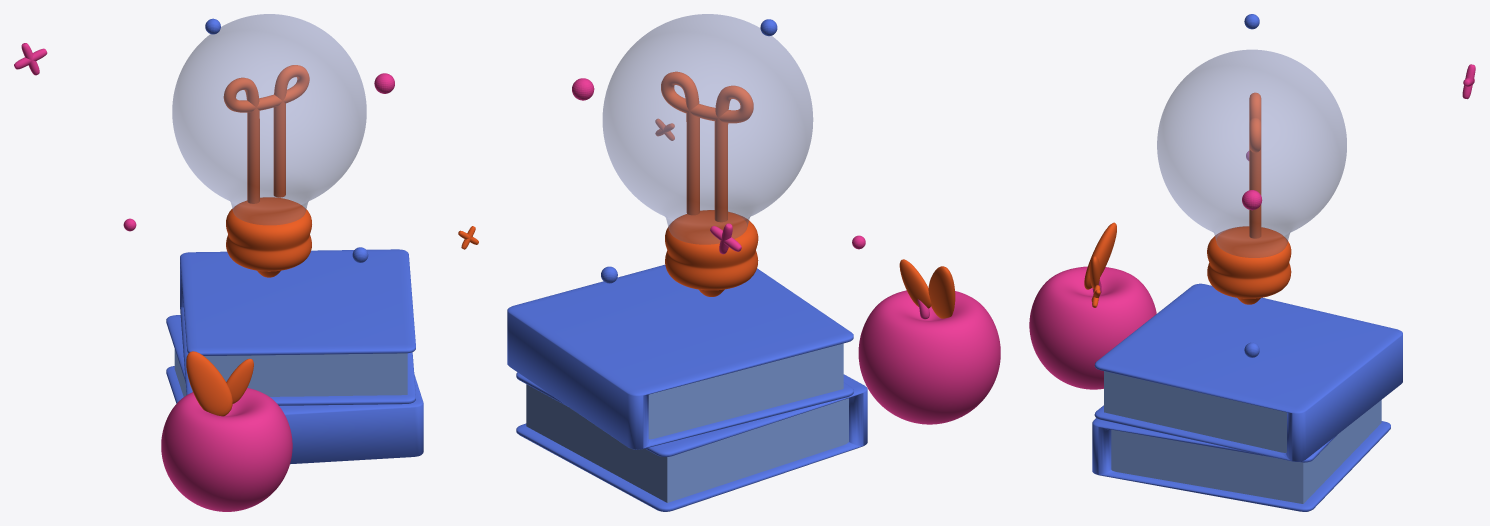
File: knowledge-3d-animated-icon-1272387606813.glb
3 renders of one model, left to right at view 1: azimuth 30°, elevation 25°; view 2: azimuth 150°, elevation 25°; view 3: azimuth 270°, elevation 25°, orthographic. The views are drawn at different scales.
Visible parts, largest first — view 1: lamp, book.001, apple, book, element plus; view 2: book.001, lamp, book, apple; view 3: book.001, lamp, book, apple.
Boxes of the visible parts, left/top/right/bottom form: lamp: left=172, top=14, right=366, bottom=277; book.001: left=180, top=249, right=415, bottom=405; apple: left=161, top=351, right=292, bottom=511; book: left=166, top=315, right=423, bottom=464; element plus: left=14, top=43, right=47, bottom=75; book.001: left=507, top=264, right=853, bottom=449; lamp: left=602, top=14, right=813, bottom=296; book: left=516, top=372, right=867, bottom=511; apple: left=858, top=259, right=1000, bottom=424; book.001: left=1094, top=283, right=1402, bottom=461; lamp: left=1157, top=49, right=1346, bottom=304; book: left=1092, top=400, right=1390, bottom=511; apple: left=1029, top=222, right=1156, bottom=389.
Size of the model in its own units: 4.78 by 5.5 by 5.54.
